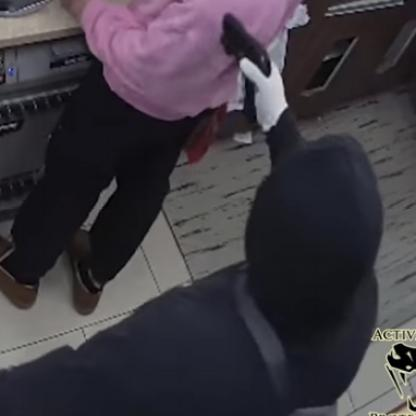weapon: (220, 10, 273, 127)
